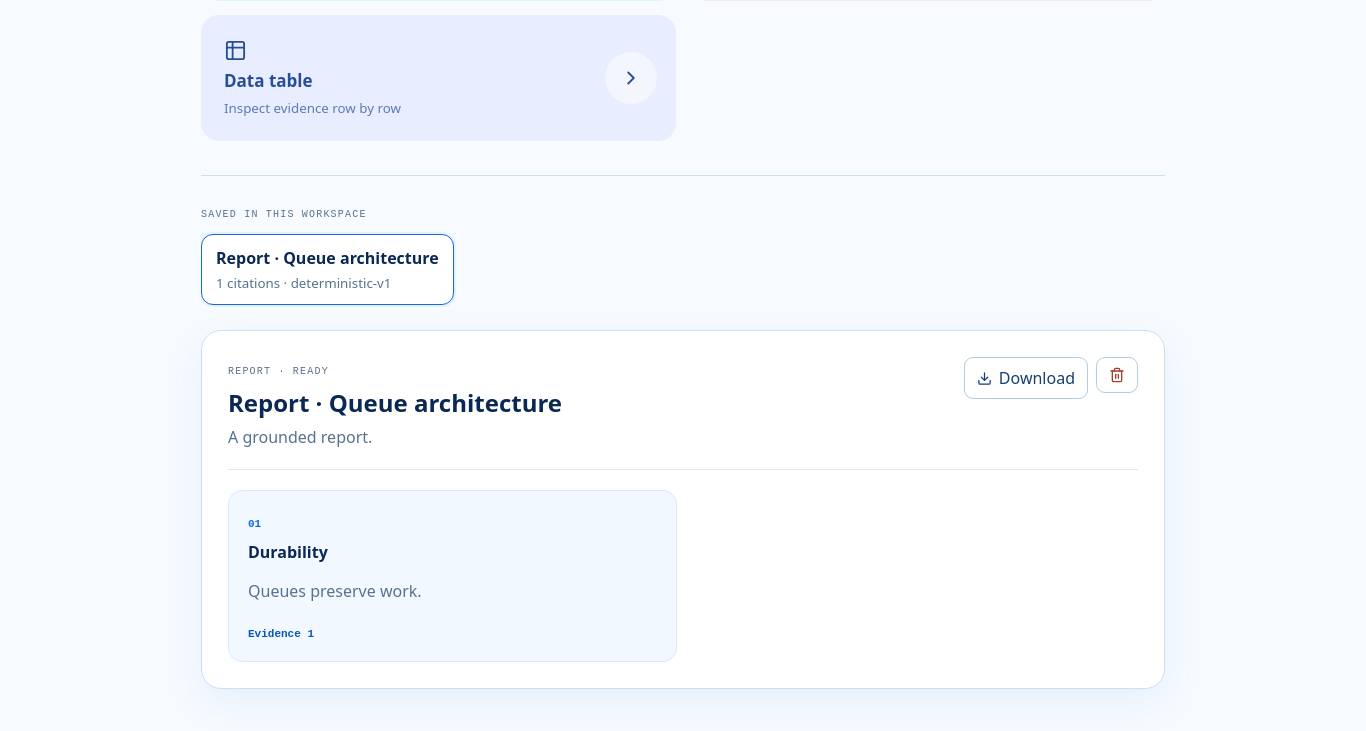
Test: StudioView › opens exact immutable evidence from a saved artifact
The width and height of the screenshot is (1366, 731).
(page scrolled)
Click the button "Evidence 1". click: [281, 634]
box: [248, 628, 314, 640]
(page scrolled)
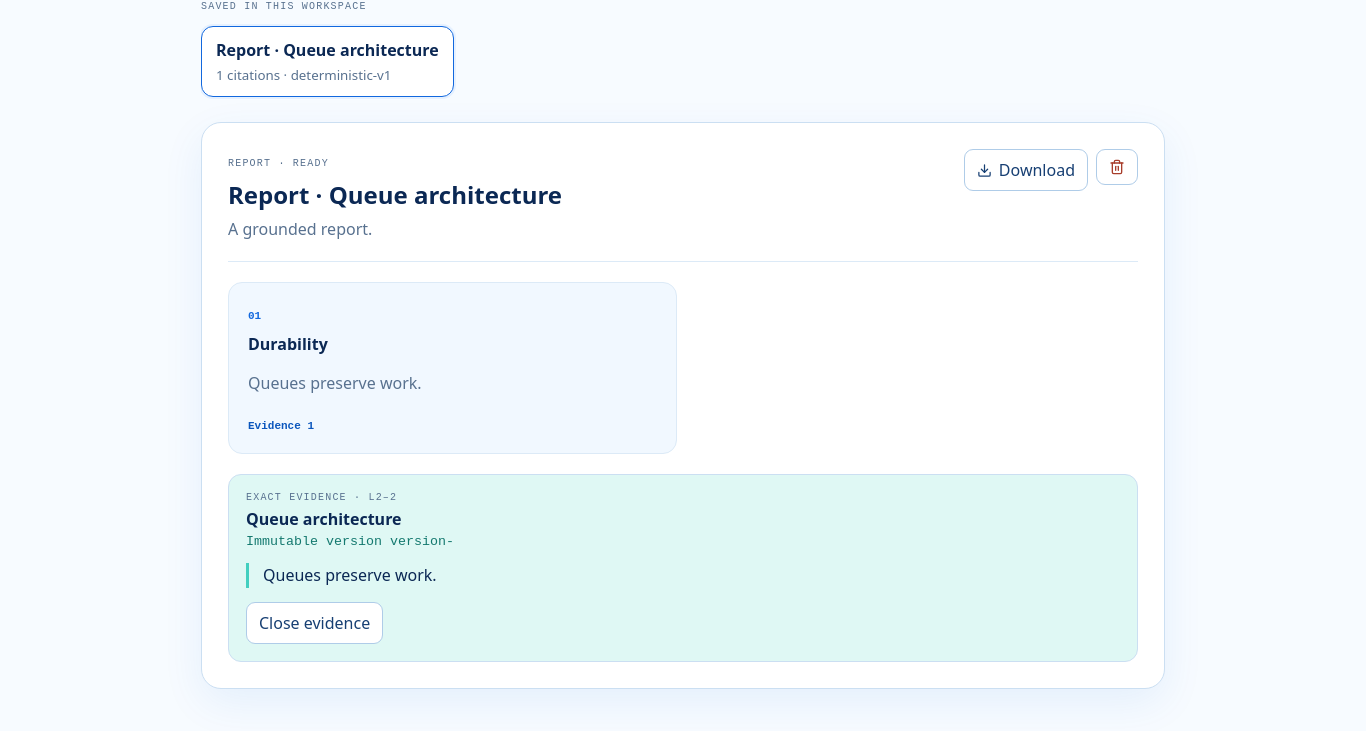
expect the text "Queues preserve work." is shown 2 times: met, box [248, 372, 422, 394]; [246, 563, 1120, 588]
expect the text "EXACT EVIDENCE · L2–2" is shown: met, box [246, 492, 397, 503]
expect the text "Immutable version version-" is shown: met, box [246, 534, 454, 549]
